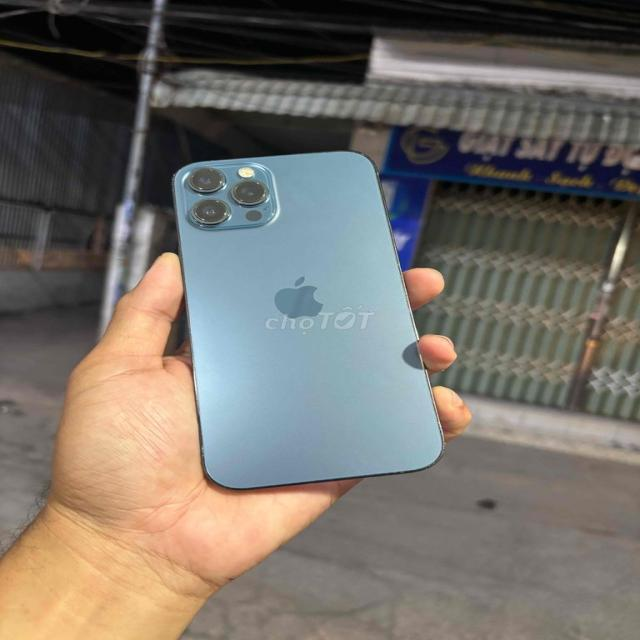gen_12_13: (169, 148, 444, 494)
